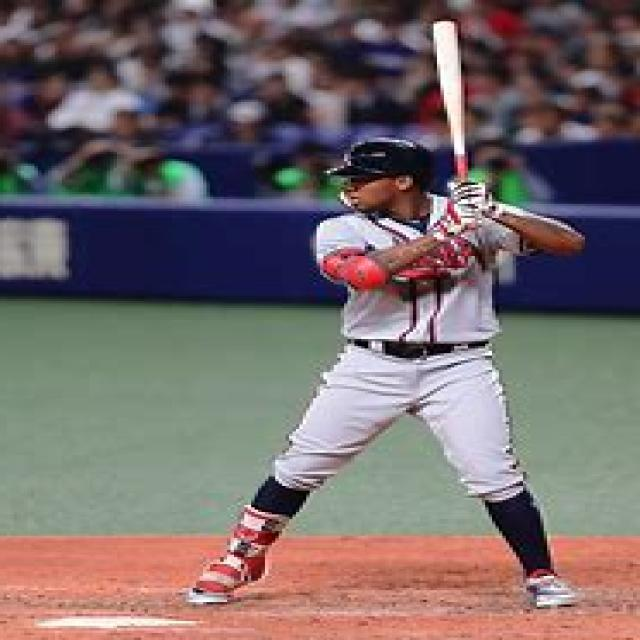bat: (421, 16, 486, 244)
